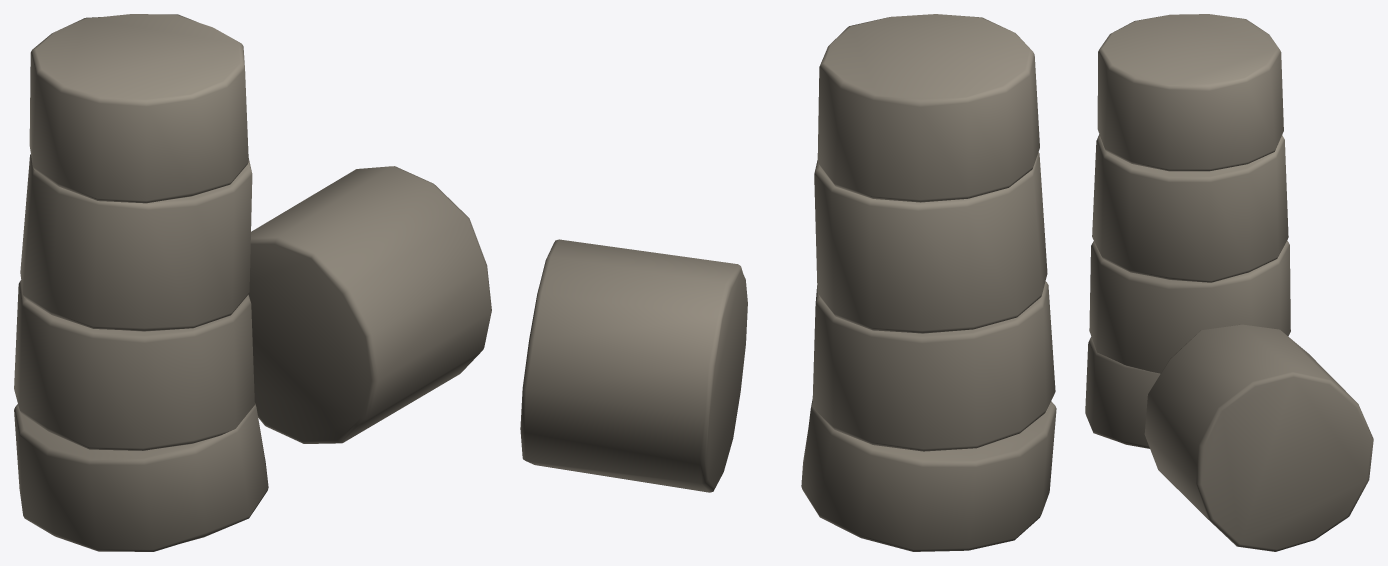
File: broken_column.glb
3 renders of one model, left to right at view 1: azimuth 30°, elevation 25°; view 2: azimuth 150°, elevation 25°; view 3: azimuth 270°, elevation 25°, orthographic. The views are drawn at different scales.
Visible parts, largest first — view 1: bcol; view 2: bcol; view 3: bcol.
Part boxes in pixels (x1,y1,x2,y2): bcol: [14, 14, 491, 551]; bcol: [520, 14, 1056, 551]; bcol: [1085, 14, 1373, 551].
Bounding box in the file's own units: 4.24 × 3.92 × 2.72.
